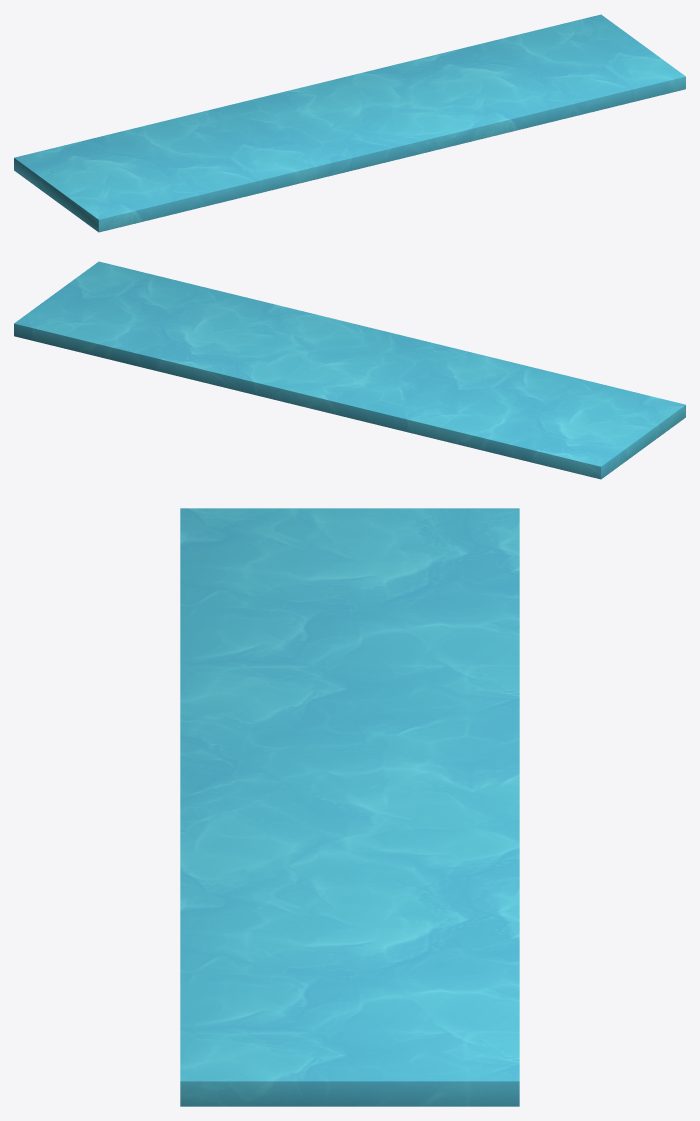
File: SM_RG_AvoidWalls_Board_Ice.fbx
The picture shows the model from 3 angles, top to bottom: view 1: azimuth 30°, elevation 25°; view 2: azimuth 150°, elevation 25°; view 3: azimuth 270°, elevation 25°; orthographic projection. The views are drawn at different scales.
Visible parts, largest first — view 1: SM_RG_AvoidWalls_Board_Ice; view 2: SM_RG_AvoidWalls_Board_Ice; view 3: SM_RG_AvoidWalls_Board_Ice.
Part boxes in pixels (<box>): SM_RG_AvoidWalls_Board_Ice: <box>14,14,685,232</box>; SM_RG_AvoidWalls_Board_Ice: <box>14,261,685,479</box>; SM_RG_AvoidWalls_Board_Ice: <box>180,508,519,1106</box>.
Bounding box in the file's own units: 4802 × 100 × 1202.
